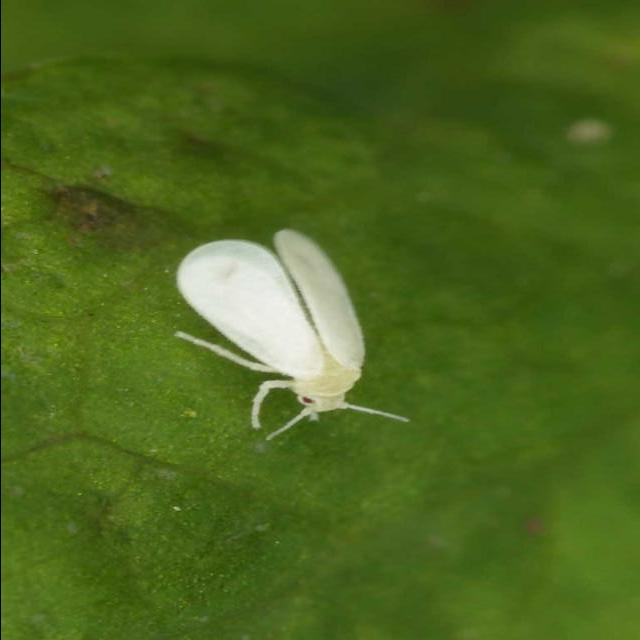Whitefly: (155, 218, 424, 446)
